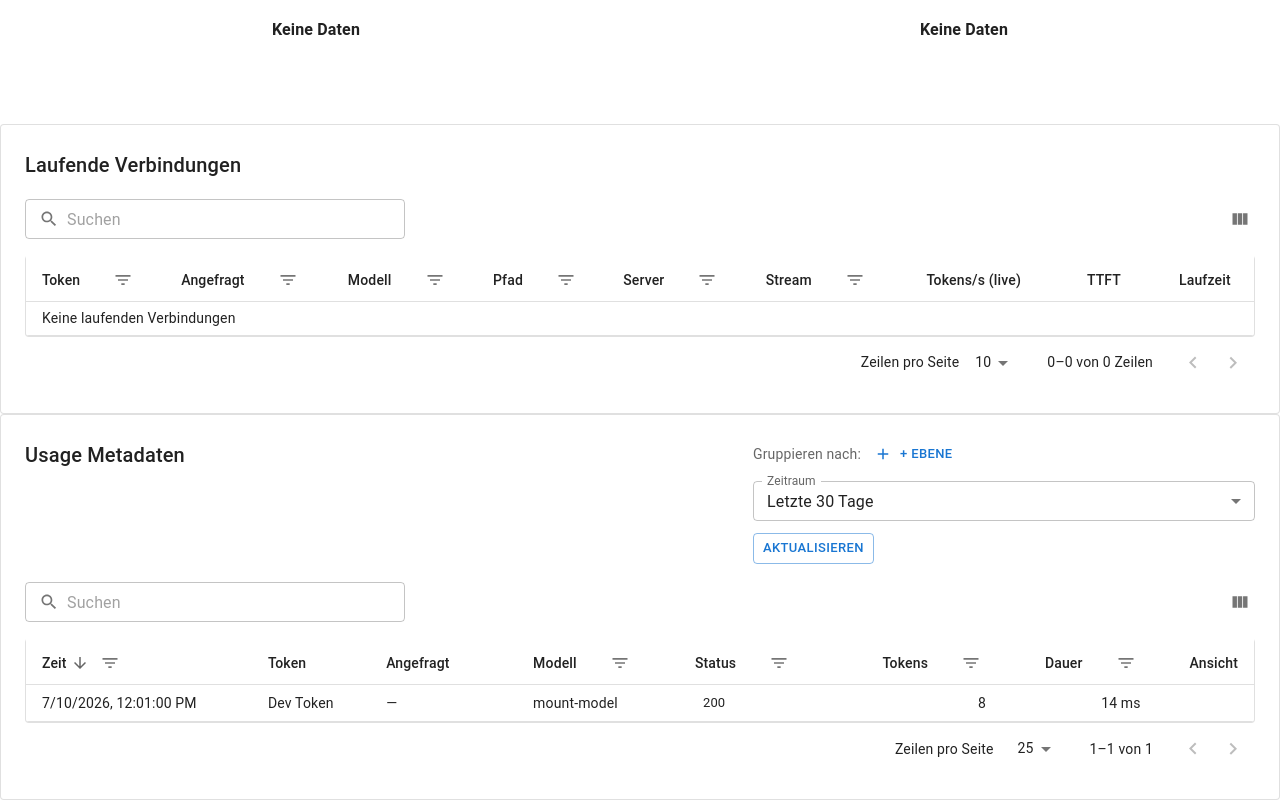
Scenario: keeps the newest query's data when an older load resolves last
This screenshot has width=1280, height=800.
(page scrolled)
Check: the cell "mount-model" is shown, box [517,684,679,722]
Two successive filter changes fire load A (index 1) then the newer load B (index 2).
Type "A" into the field named "Suche (ID, Modell, Server, Token)" at [236, 602], box [67,582,405,622]
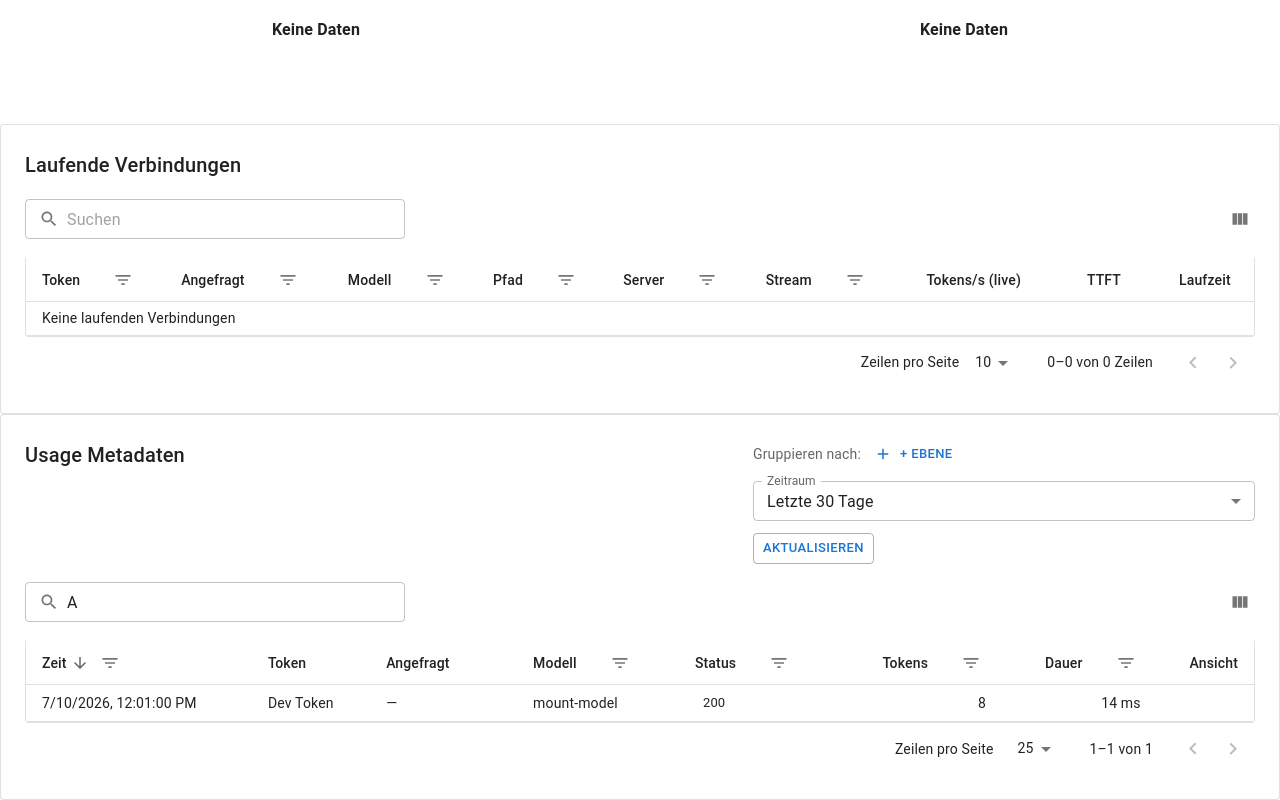
Replace the text in the field named "Suche (ID, Modell, Server, Token)" with "B" at [236, 602], box [67,582,405,622]
(page scrolled)
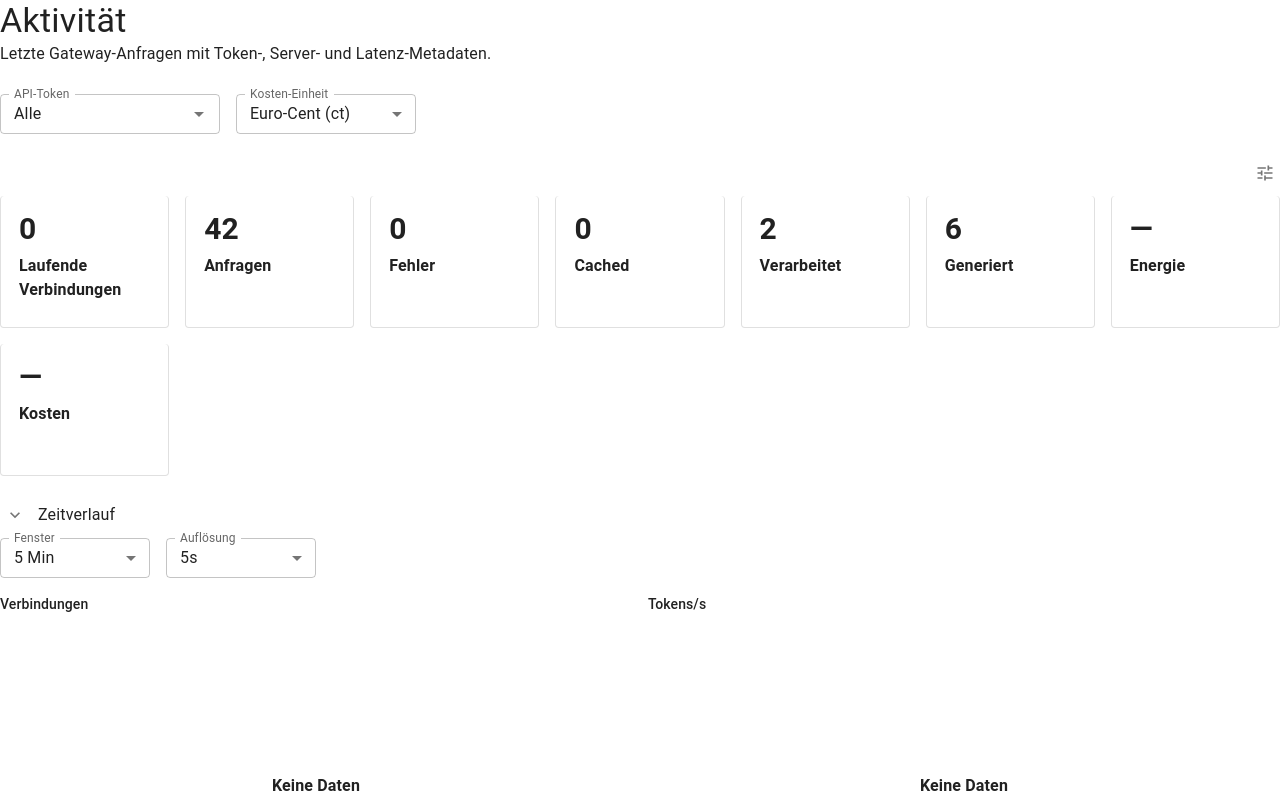
Check: the text "42" is shown, box [204,211,239,246]
Check: the text "7" is gone
